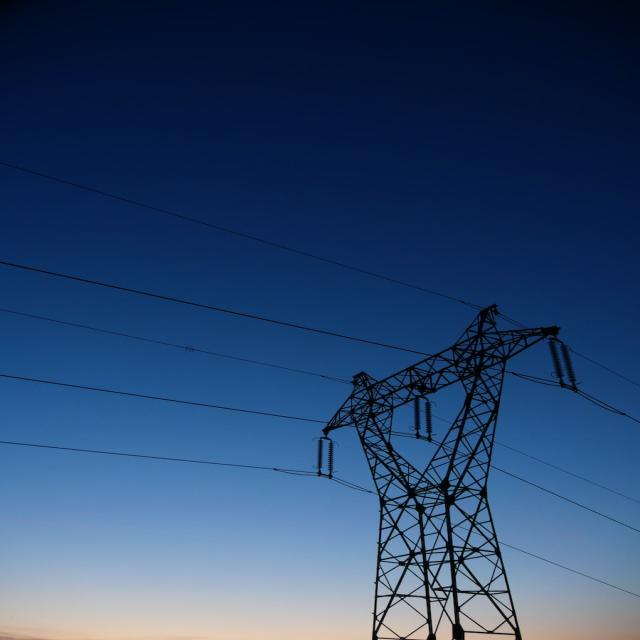transmission tower: (213, 288, 617, 640)
